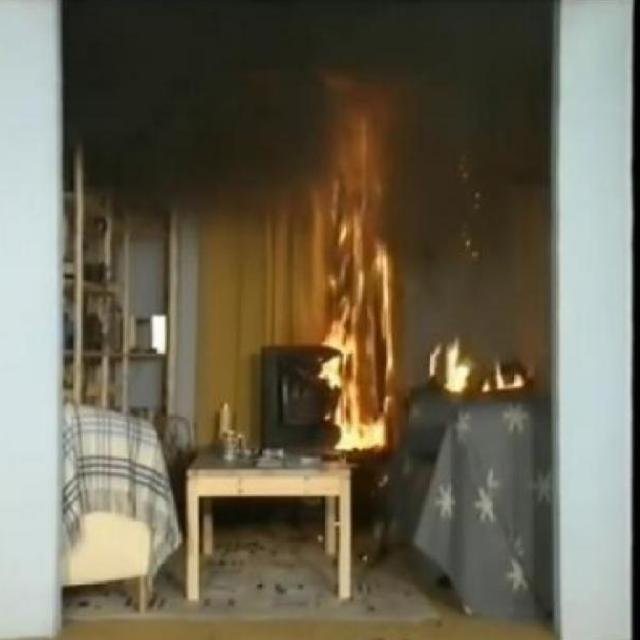fire: (63, 3, 317, 218), (396, 10, 556, 331)
smoke: (314, 99, 396, 465), (422, 336, 534, 398)
